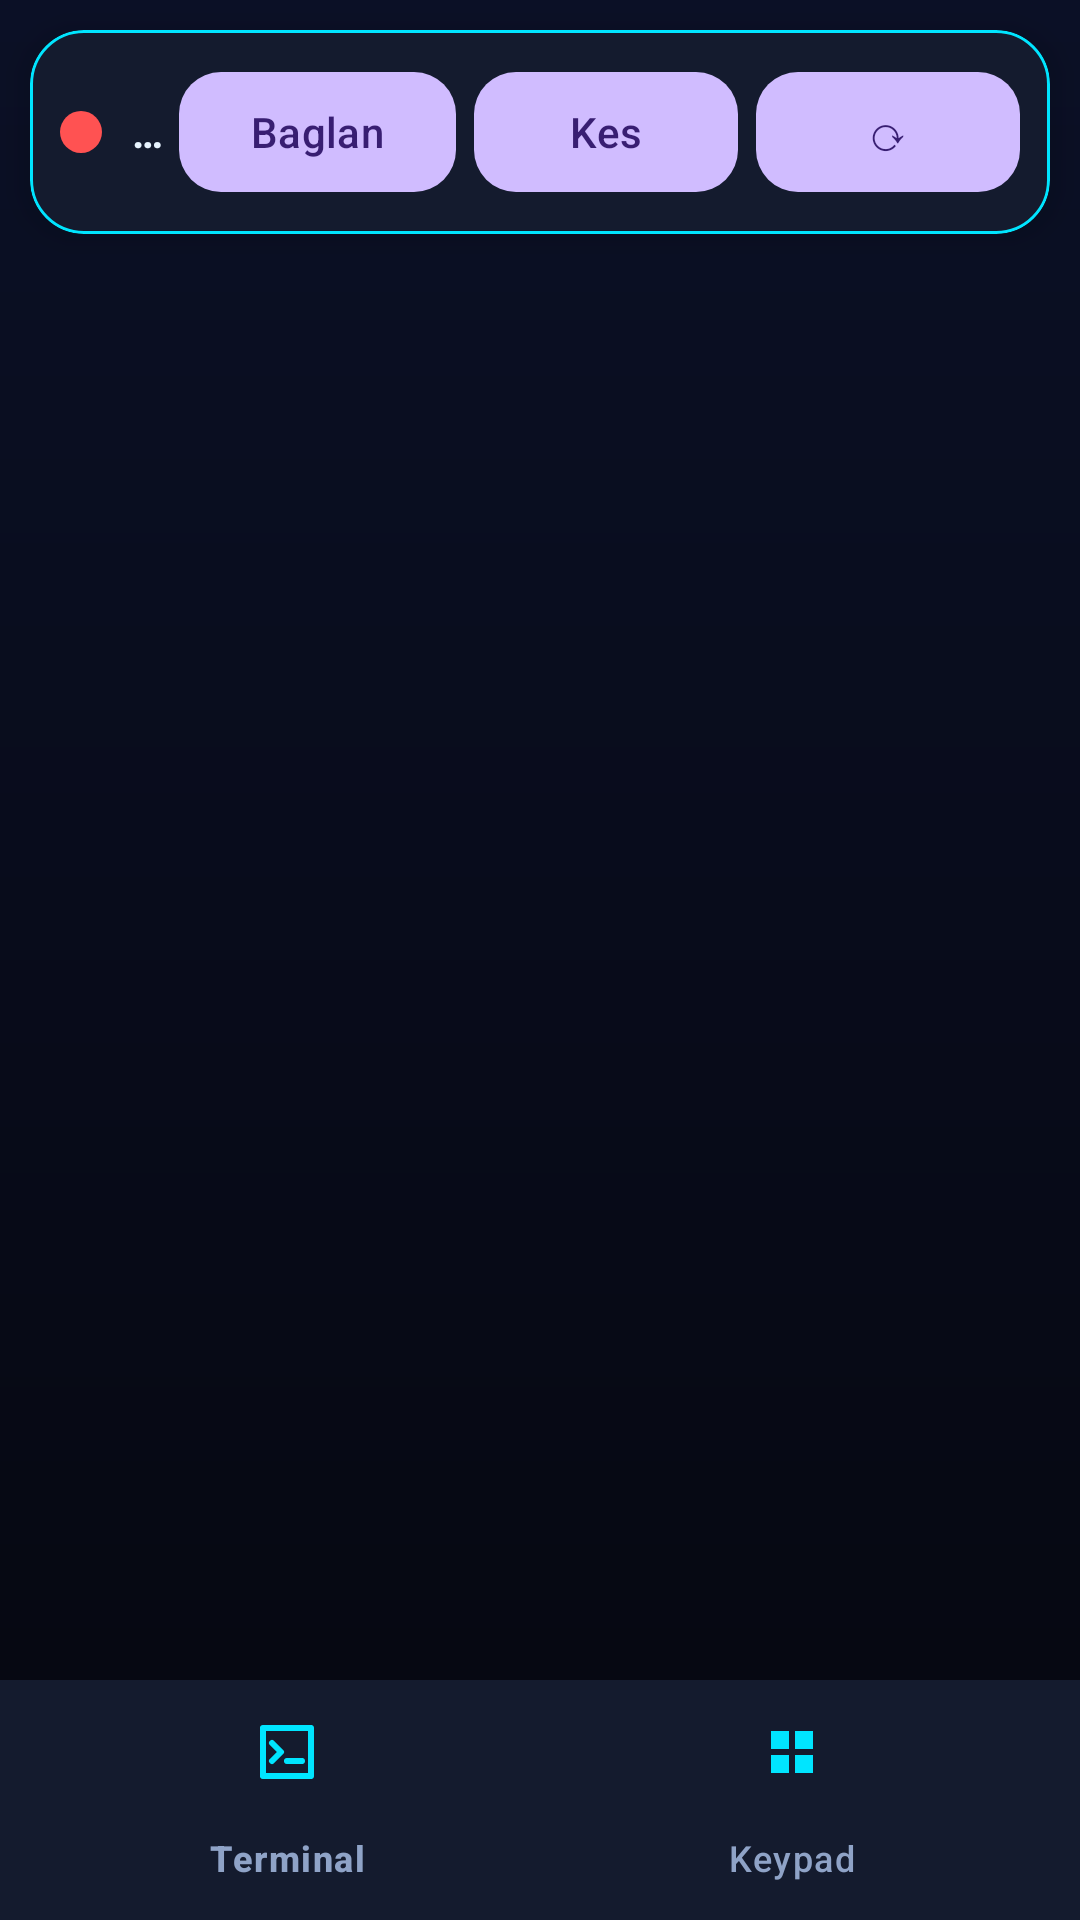

Where icons sit on this 1080px×1920px app screen, as (x1, y1, x2, y2):
dot off: (60, 111, 102, 153)
